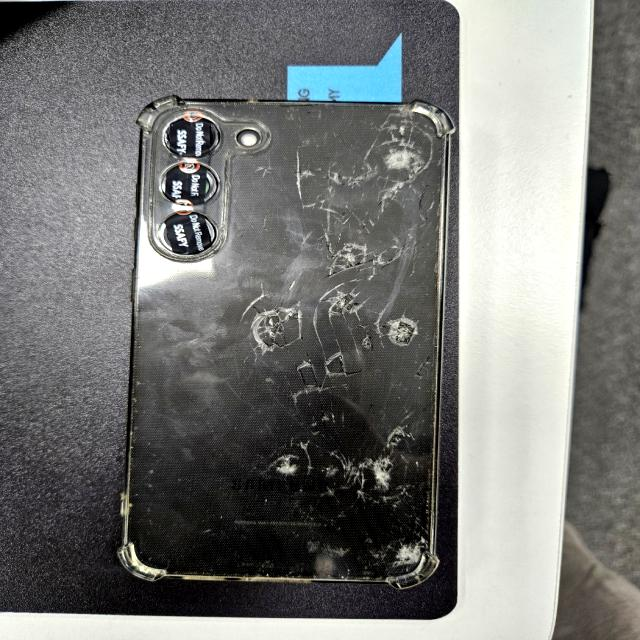phone: (127, 97, 429, 586)
sticker: (154, 212, 224, 261), (160, 159, 227, 208), (162, 109, 217, 157)
